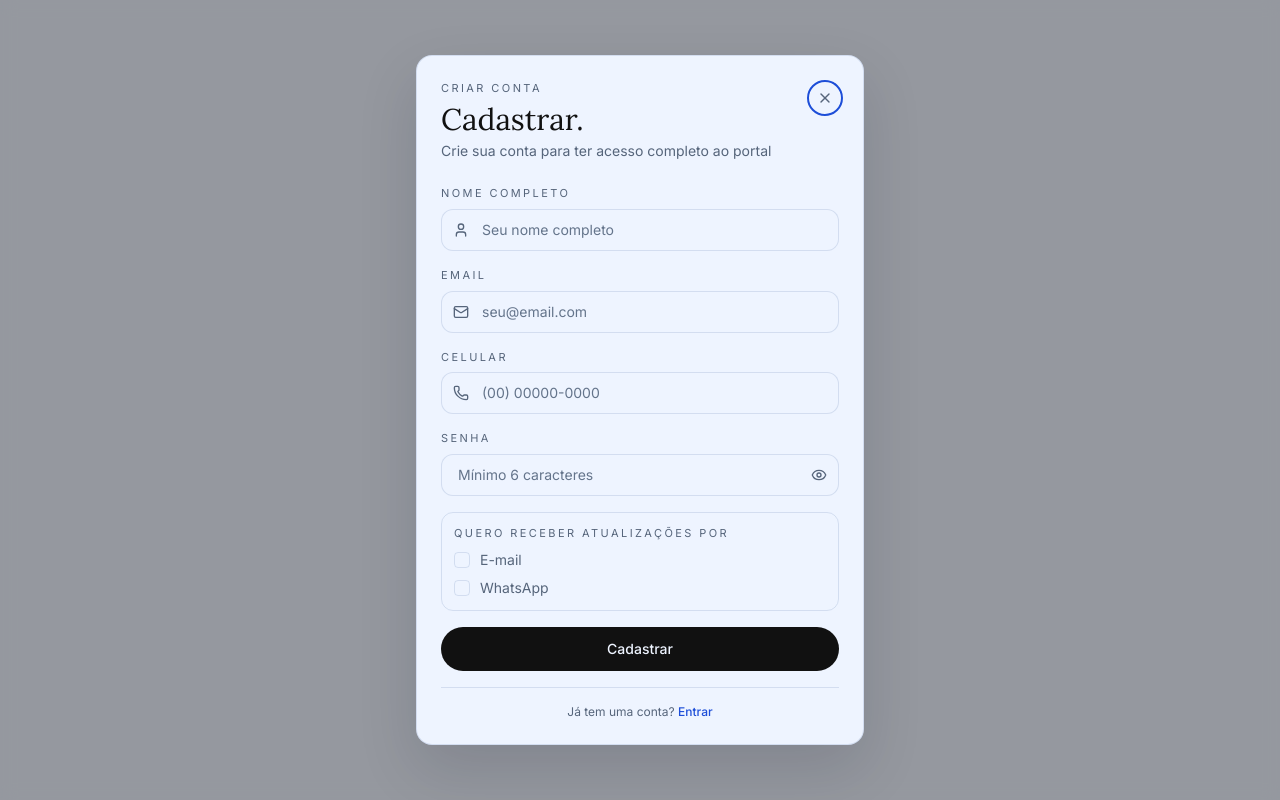
Test: AuthModal › signup com confirmação de email mostra mensagem de sucesso sem fechar modal
This screenshot has width=1280, height=800.
In the field labelled "Nome Completo": (640, 230) [441,209,839,251], type "Test User"
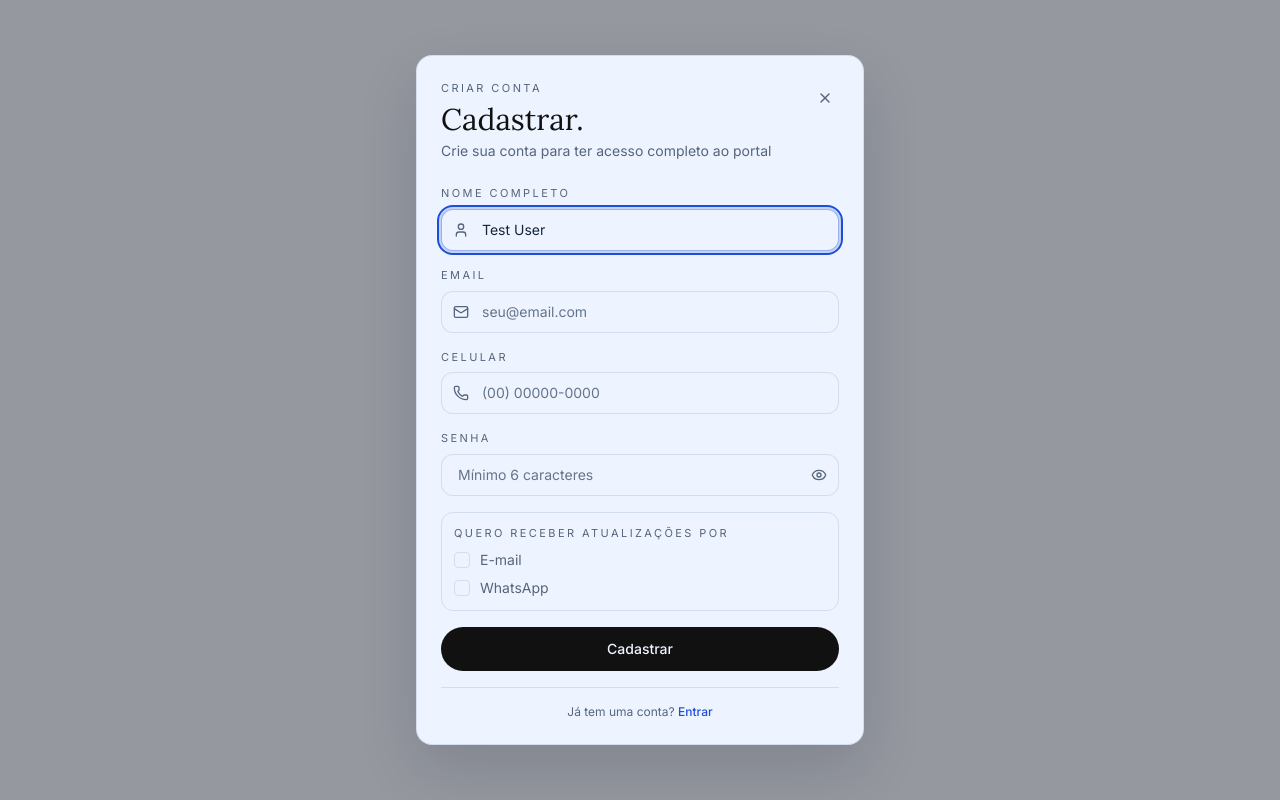
In the field labelled "Email": (640, 312) [441,290,839,332], type "test@example.com"
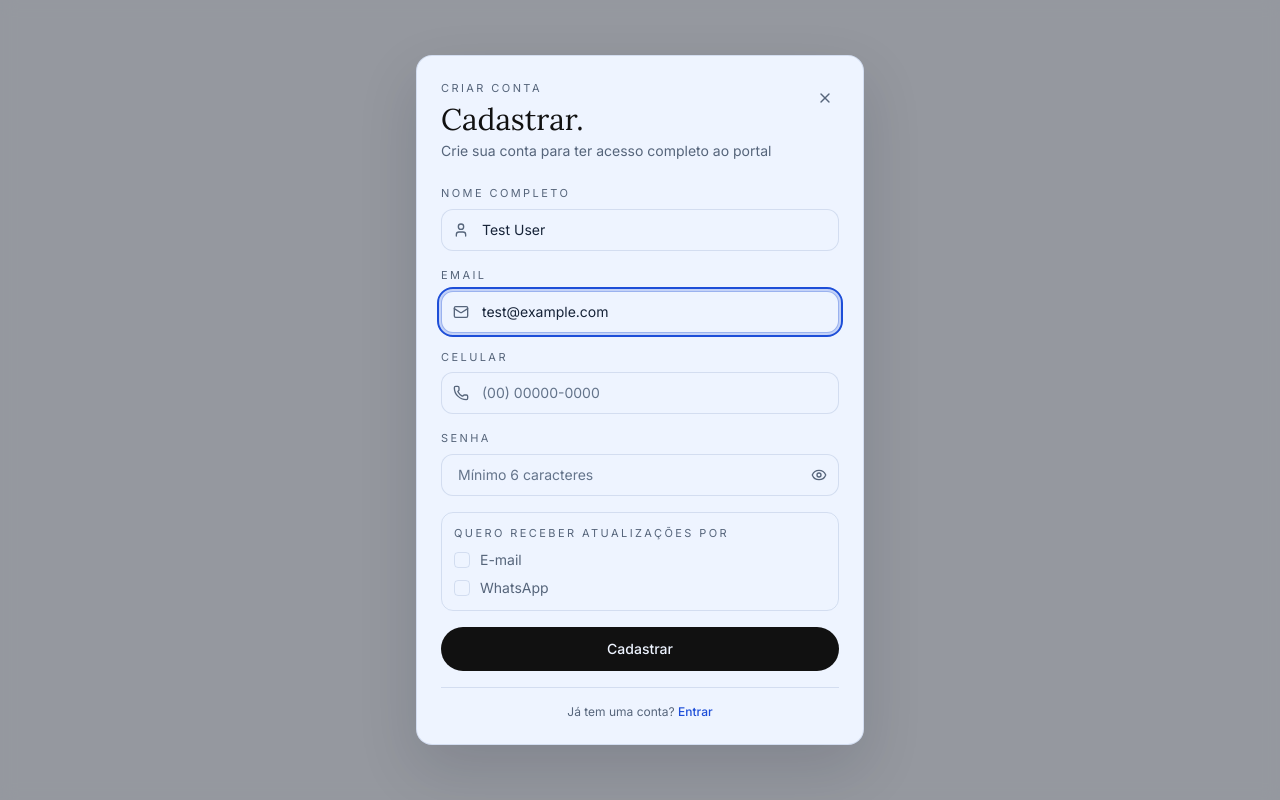
In the field labelled "Celular": (640, 393) [441,372,839,414], type "11999999999"
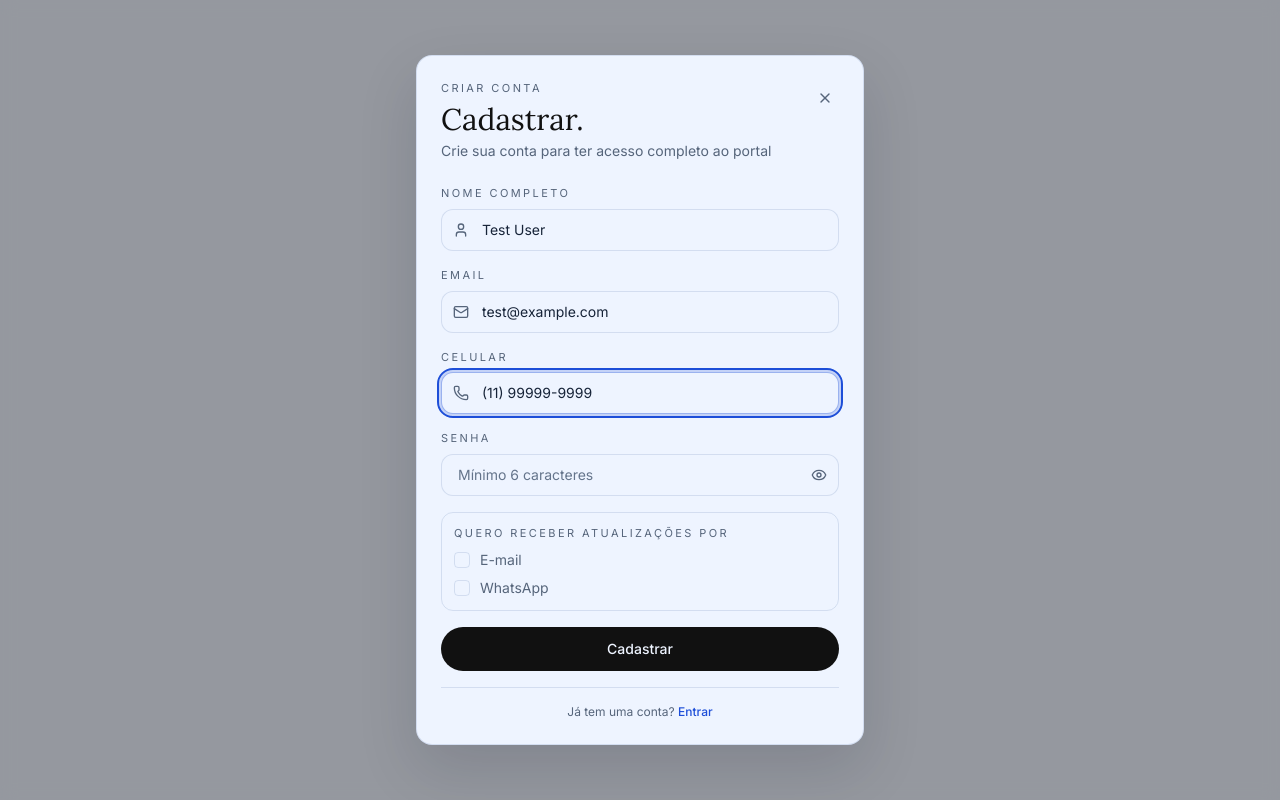
In the password field labelled "Senha": (640, 475) [441,454,839,496], type "123456"
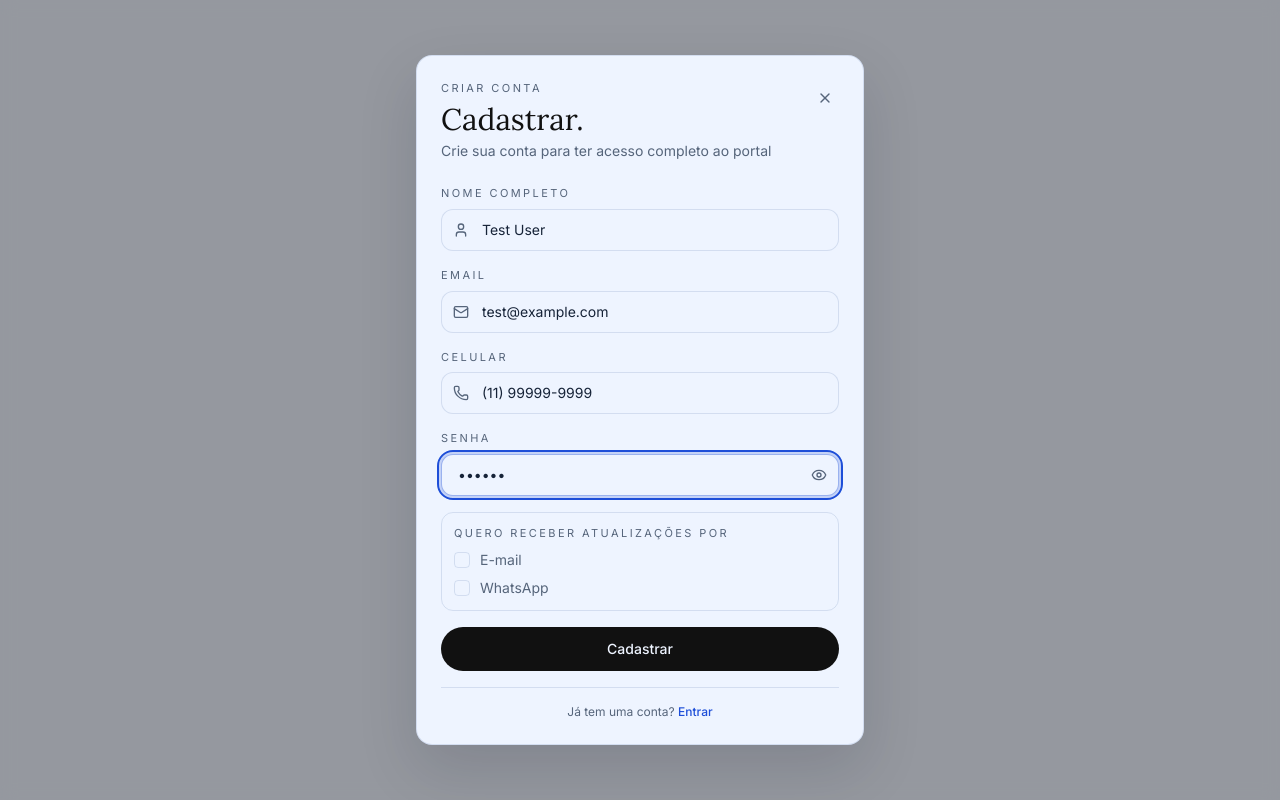
Click the checkbox labelled "E-mail": (488, 560) [454,551,522,568]
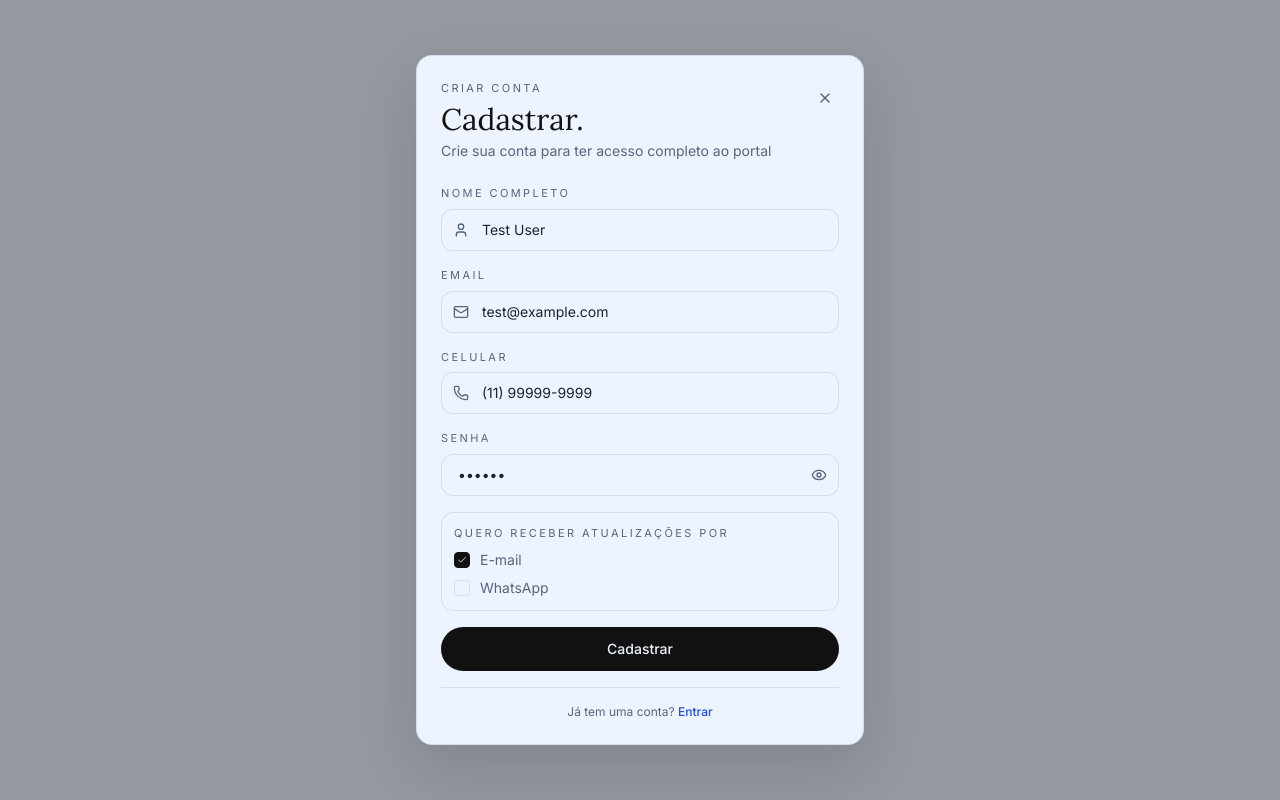
Click the button "Cadastrar": (640, 649) [441,627,839,671]
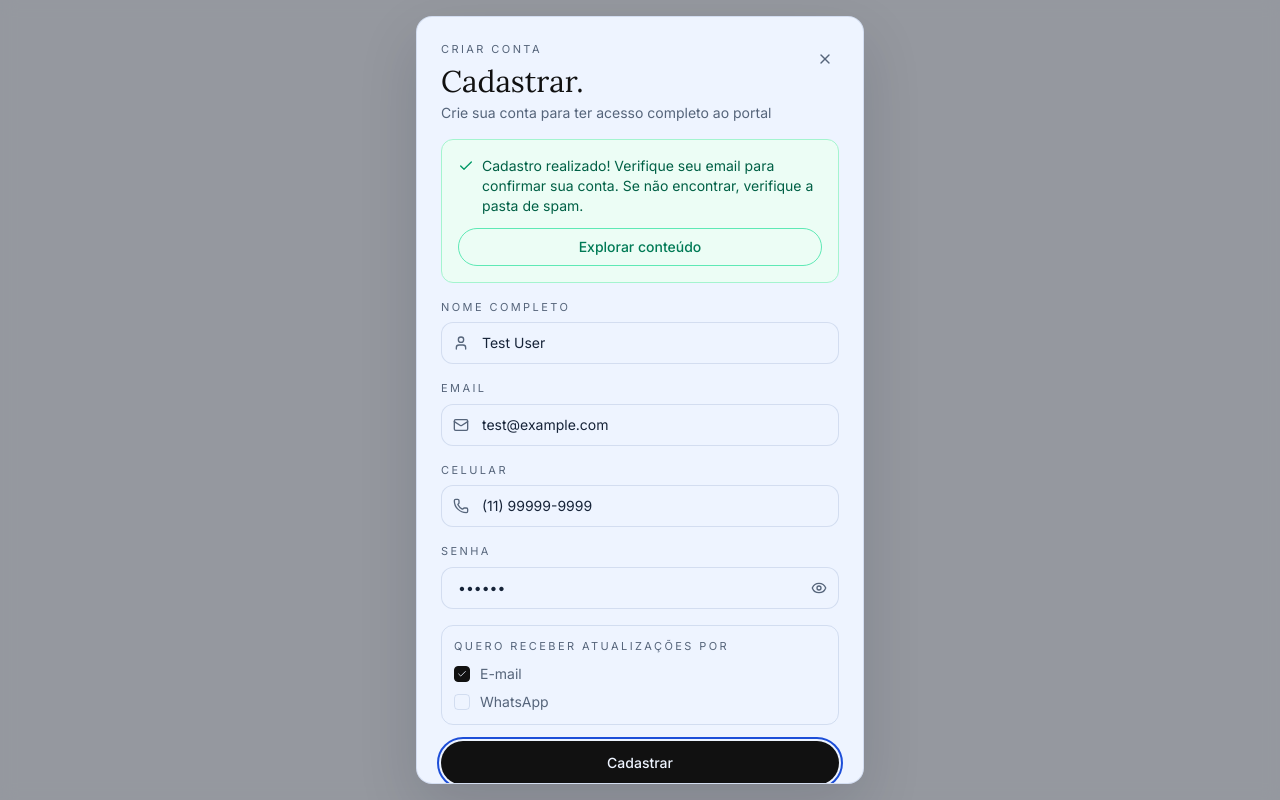
Result: the text "Verifique seu email para confirmar sua conta" is shown at [482,157,813,214]
